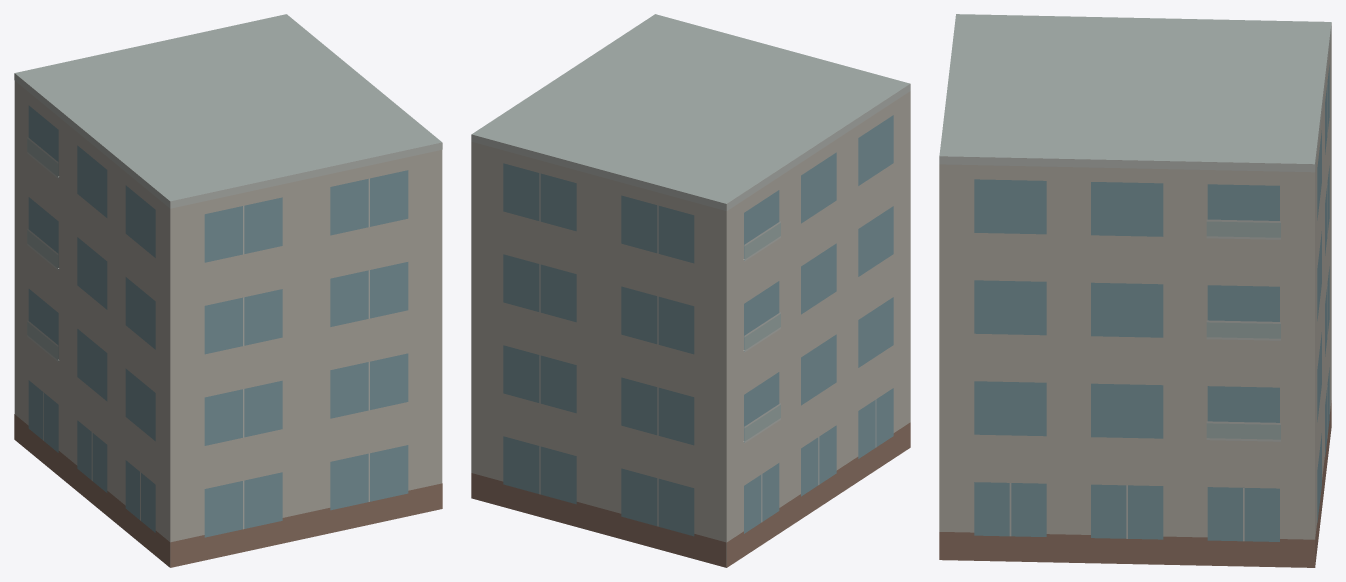
The model's file is residential-97deed51-1df3-4a58-839b-b06852ad6ba6.glb.
3 views of the same model, side by side, from view 1: azimuth 30°, elevation 25°; view 2: azimuth 150°, elevation 25°; view 3: azimuth 270°, elevation 25° (orthographic). The views are drawn at different scales.
Visible parts, largest first — view 1: residential-97deed51-1df3-4a58-839b-b06852ad6ba6.tmp; view 2: residential-97deed51-1df3-4a58-839b-b06852ad6ba6.tmp; view 3: residential-97deed51-1df3-4a58-839b-b06852ad6ba6.tmp.
Part boxes in pixels (x1=…): residential-97deed51-1df3-4a58-839b-b06852ad6ba6.tmp: x1=14, y1=14, x2=442, y2=567; residential-97deed51-1df3-4a58-839b-b06852ad6ba6.tmp: x1=471, y1=14, x2=910, y2=567; residential-97deed51-1df3-4a58-839b-b06852ad6ba6.tmp: x1=939, y1=14, x2=1331, y2=567.
Size of the model in its own units: 9.74 by 12.2 by 10.75.
